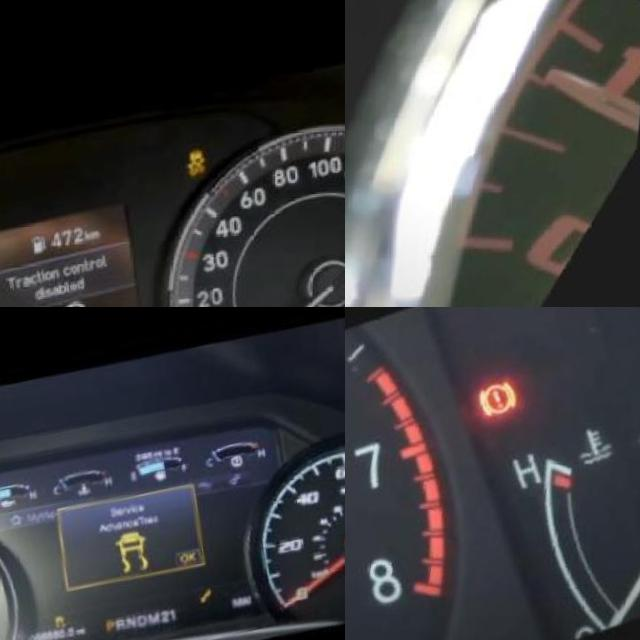Engine cooling system: (77, 487, 89, 498)
Low fuel level: (156, 474, 166, 485)
